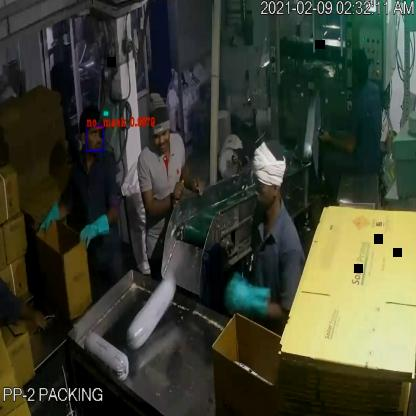glove: (223, 265, 276, 328), (134, 177, 187, 226), (75, 208, 113, 255), (175, 150, 210, 198), (36, 191, 66, 243)
no_glove: (0, 266, 51, 346), (311, 105, 363, 160)
